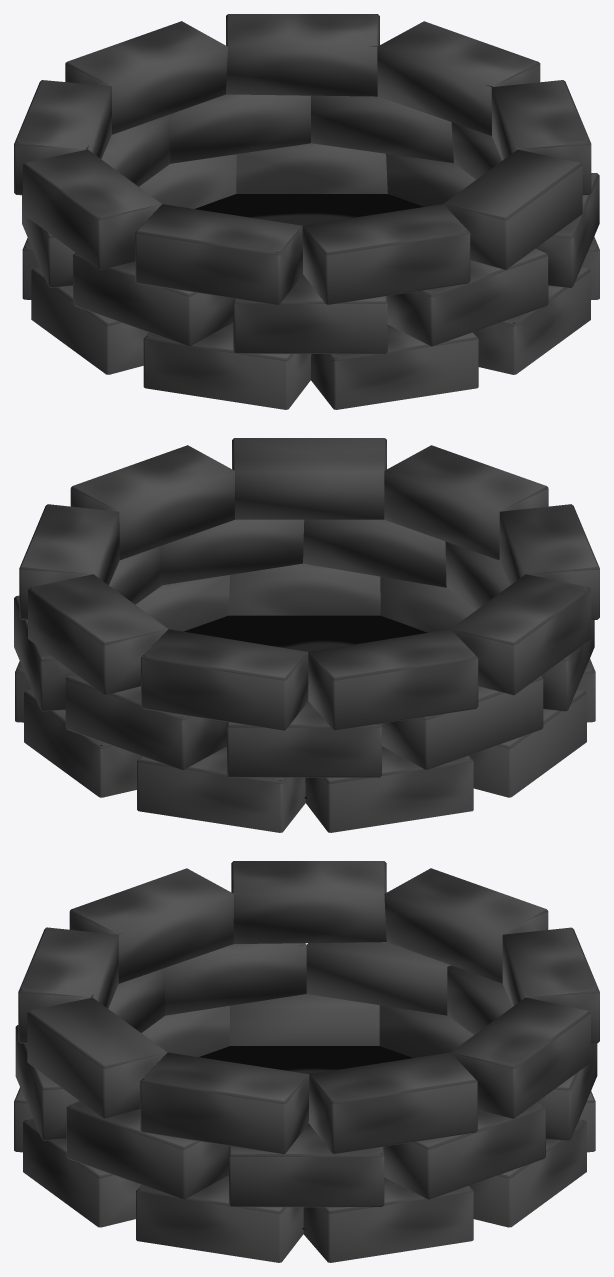
The model's file is Firepit.fbx.
3 renders of one model, top to bottom at view 1: azimuth 30°, elevation 25°; view 2: azimuth 150°, elevation 25°; view 3: azimuth 270°, elevation 25°, orthographic.
Parts seen in each view (by area): view 1: FirePit; view 2: FirePit; view 3: FirePit.
Part boxes in pixels (x1,y1,x2,y2): FirePit: (14,14,599,409); FirePit: (14,438,599,832); FirePit: (14,861,599,1262).
Size of the model in its own units: 64.08 by 19.42 by 64.59.
